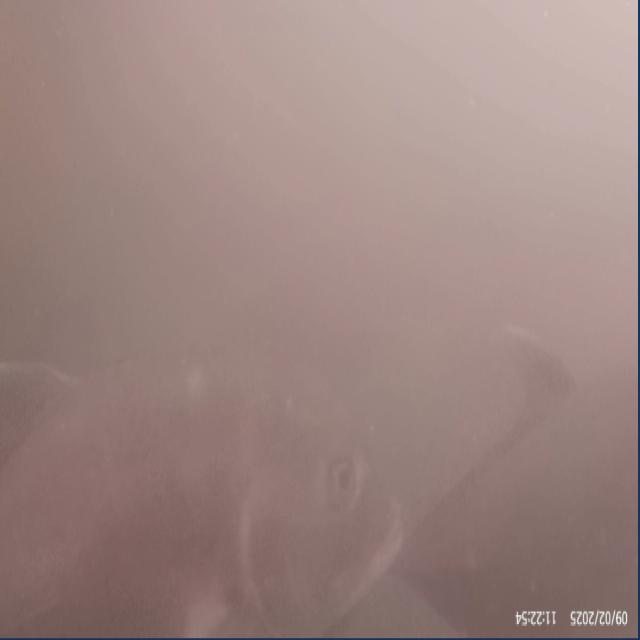ikan: (30, 302, 436, 628)
